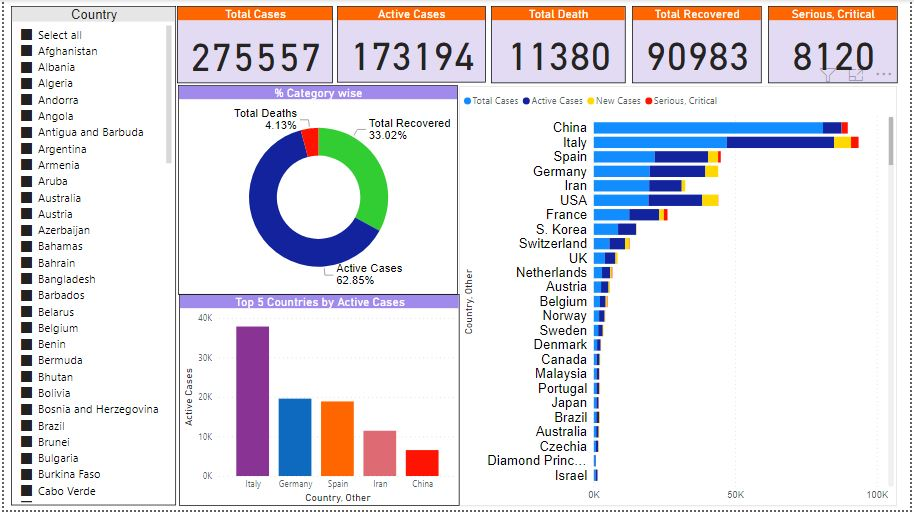

Layout of this report page (visuals, bound fields, positions):
{"tool":"powerbi","page":{"name":"Page 1","canvas":[1280,720],"ordinal":0},"visuals":[{"type":"slicer","title":"Country","fields":{"Values":["Table 1.Country, Other"]},"box":[9.6,8.3,232.7,704.9],"z":0},{"type":"card","title":"Total Cases","fields":{"Values":["Sum(Table 1.Total Cases)"]},"box":[243.6,8.3,220.2,108.7],"z":1000},{"type":"card","title":"Total Death","fields":{"Values":["Sum(Table 1.Total Deaths)"]},"box":[687.2,8.2,189.7,108.9],"z":2000},{"type":"card","title":"Active Cases","fields":{"Values":["Sum(Table 1.Active Cases)"]},"box":[469.5,8.2,209.6,107.7],"z":3000},{"type":"card","title":"Total Recovered","fields":{"Values":["Sum(Table 1.Total Recovered)"]},"box":[886.2,8.2,182.6,108.9],"z":4000},{"type":"donutChart","title":"% Category wise","fields":{"Y":["Sum(Table 1.Total Recovered)","Sum(Table 1.Active Cases)","Sum(Table 1.Total Deaths)"]},"box":[245.9,120.6,394.5,296.2],"z":5000},{"type":"barChart","fields":{"Category":["Table 1.Country, Other"],"Y":["Sum(Table 1.Total Cases)","Sum(Table 1.Active Cases)","Sum(Table 1.New Cases)","Sum(Table 1.Serious, Critical)"]},"box":[642.9,121.1,618.1,593.3],"z":6000},{"type":"clusteredColumnChart","title":"Top 5 Countries by Active Cases","fields":{"Category":["Table 1.Country, Other"],"Y":["Sum(Table 1.Active Cases)"]},"box":[246.4,415.7,396.4,298.7],"z":7000},{"type":"card","title":"Serious, Critical","fields":{"Values":["Sum(Table 1.Serious, Critical)"]},"box":[1078.2,8.2,182.6,108.9],"z":8000}]}

Visuals, with their boxes in screenshot pixels (x1, y1, x2, y2), scaled from the page's 1280x720 canvas onto the 914x515 screenshot:
"Country" slicer: {"x1": 7, "y1": 6, "x2": 173, "y2": 510}
"Total Cases" card: {"x1": 174, "y1": 6, "x2": 331, "y2": 84}
"Total Death" card: {"x1": 491, "y1": 6, "x2": 626, "y2": 84}
"Active Cases" card: {"x1": 335, "y1": 6, "x2": 485, "y2": 83}
"Total Recovered" card: {"x1": 633, "y1": 6, "x2": 763, "y2": 84}
"% Category wise" donutChart: {"x1": 176, "y1": 86, "x2": 457, "y2": 298}
barChart - Table 1.Country, Other x Sum(Table 1.Total Cases): {"x1": 459, "y1": 87, "x2": 900, "y2": 511}
"Top 5 Countries by Active Cases" clusteredColumnChart: {"x1": 176, "y1": 297, "x2": 459, "y2": 511}
"Serious, Critical" card: {"x1": 770, "y1": 6, "x2": 900, "y2": 84}
